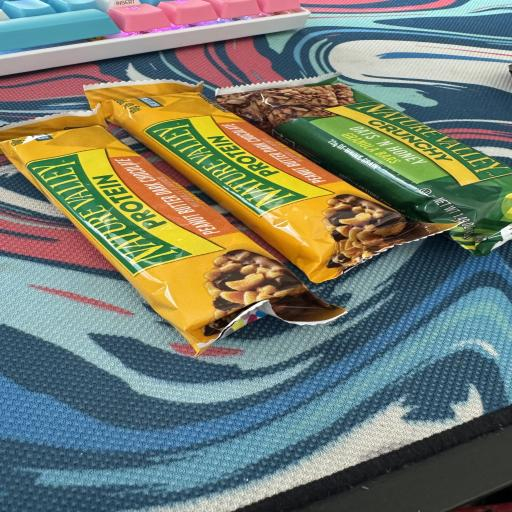granola: (0, 111, 344, 353), (85, 84, 454, 282), (217, 74, 511, 255)
